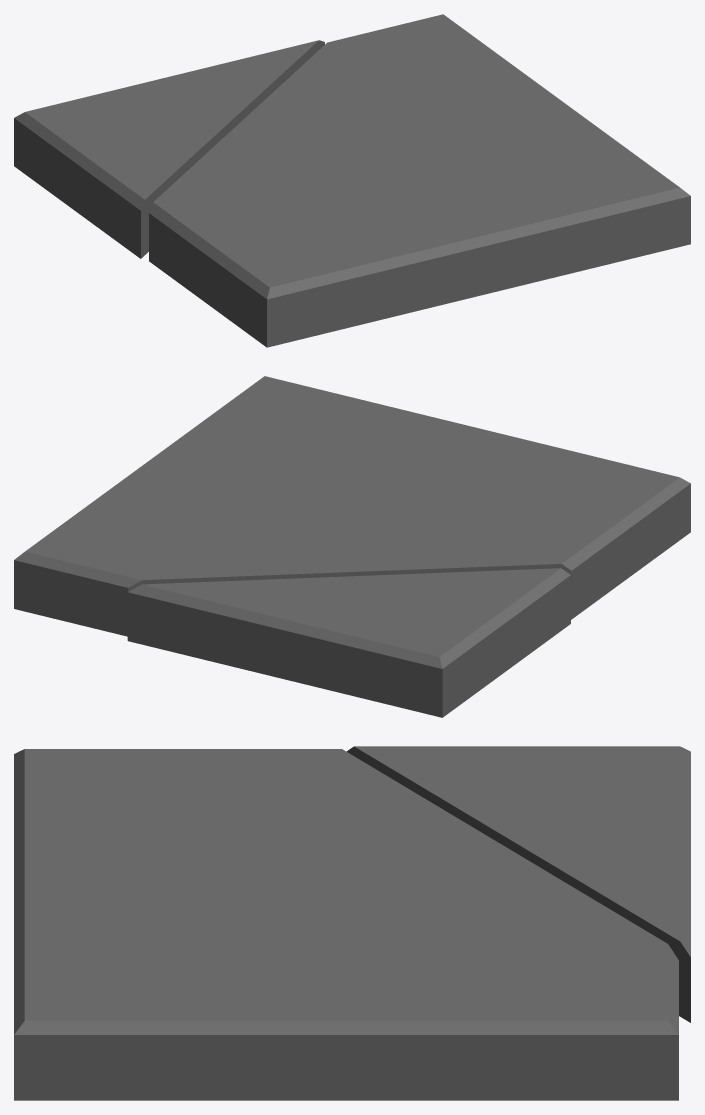
File: Stone_3_1.fbx
The picture shows the model from 3 angles, top to bottom: view 1: azimuth 30°, elevation 25°; view 2: azimuth 150°, elevation 25°; view 3: azimuth 270°, elevation 25°; orthographic projection. The views are drawn at different scales.
Parts seen in each view (by area): view 1: Stone_3_1; view 2: Stone_3_1; view 3: Stone_3_1.
Part boxes in pixels (bbox=[...]): Stone_3_1: bbox=[14, 14, 690, 347]; Stone_3_1: bbox=[14, 376, 690, 717]; Stone_3_1: bbox=[14, 746, 690, 1100].
Size of the model in its own units: 31.78 by 3.94 by 32.07.
